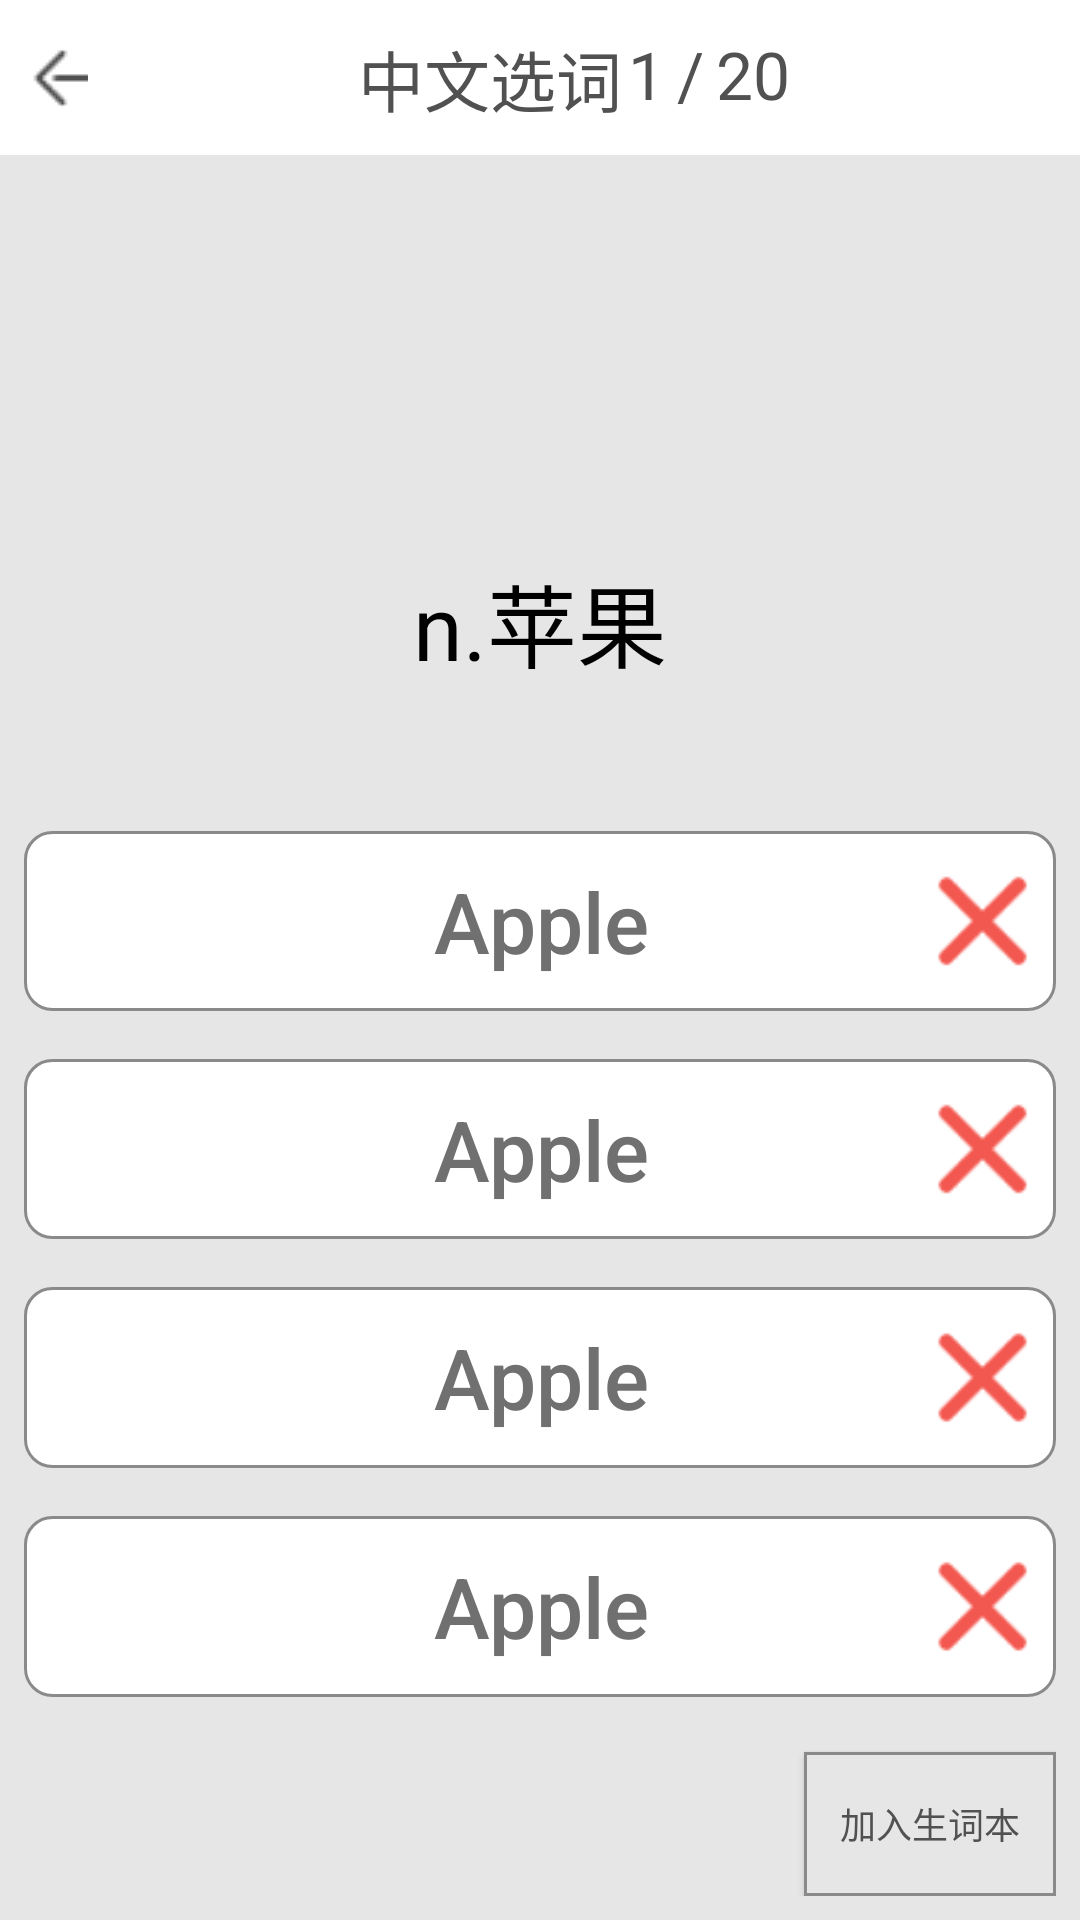

Where to tap for icons on this 1080px x 1920px app screen, as (x,y):
back: (61,78)
